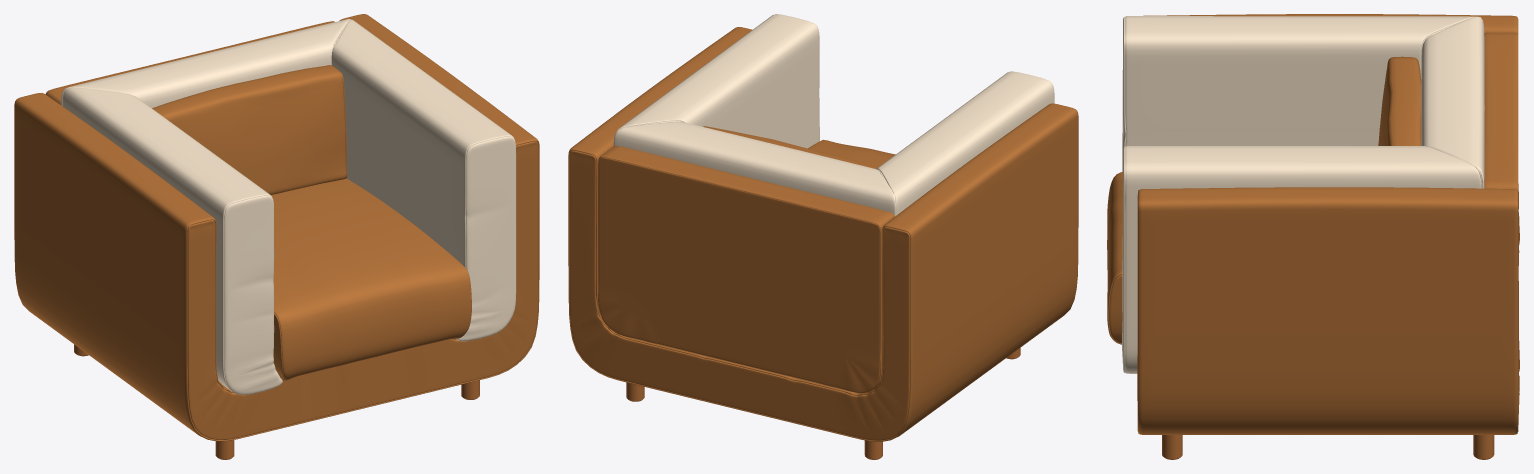
The picture shows the model from 3 angles, left to right: view 1: azimuth 30°, elevation 25°; view 2: azimuth 150°, elevation 25°; view 3: azimuth 270°, elevation 25°; orthographic projection. The views are drawn at different scales.
Parts seen in each view (by area): view 1: cgaxis_models_07_07_01, cgaxis_models_07_07_02, cgaxis_models_07_07_03; view 2: cgaxis_models_07_07_01, cgaxis_models_07_07_02, cgaxis_models_07_07_03; view 3: cgaxis_models_07_07_01, cgaxis_models_07_07_02, cgaxis_models_07_07_03.
Part boxes in pixels (left/top/right/bottom): cgaxis_models_07_07_01: left=14, top=14, right=539, bottom=441; cgaxis_models_07_07_02: left=61, top=19, right=516, bottom=394; cgaxis_models_07_07_03: left=74, top=344, right=479, bottom=459; cgaxis_models_07_07_01: left=568, top=27, right=1078, bottom=441; cgaxis_models_07_07_02: left=613, top=14, right=1054, bottom=216; cgaxis_models_07_07_03: left=626, top=348, right=1020, bottom=459; cgaxis_models_07_07_01: left=1107, top=14, right=1519, bottom=434; cgaxis_models_07_07_02: left=1121, top=16, right=1484, bottom=373; cgaxis_models_07_07_03: left=1162, top=435, right=1494, bottom=459.
Bounding box in the file's own units: 51.16 × 37.74 × 46.97.
